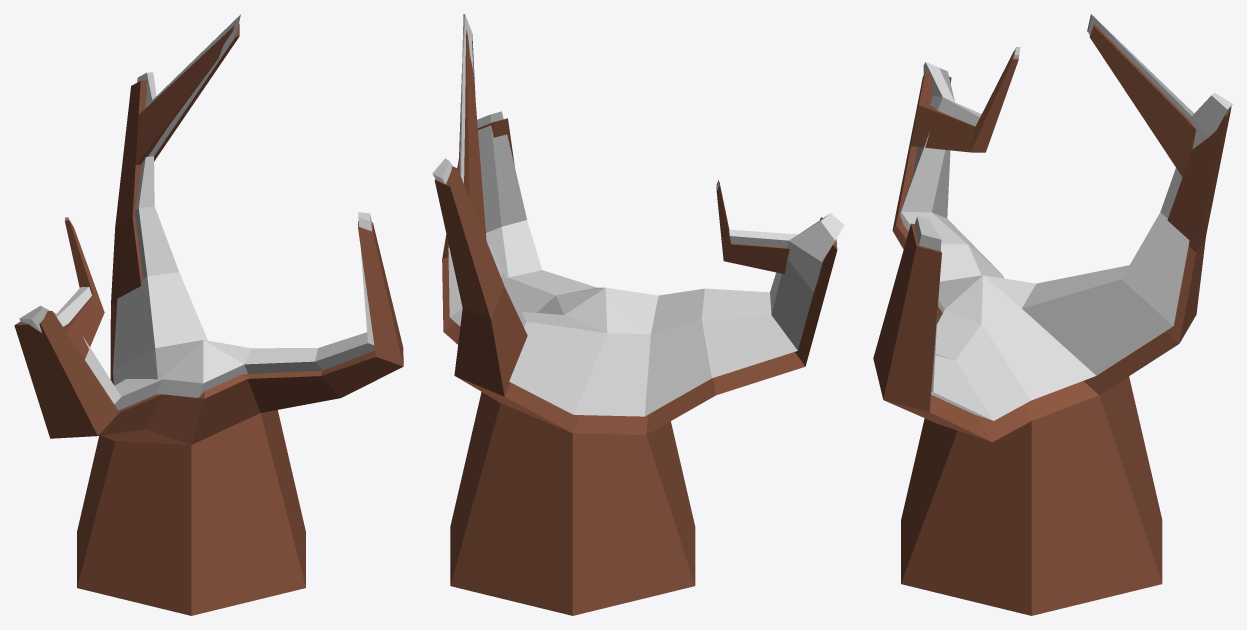
The model's file is bush_2_winter_mat.fbx.
3 renders of one model, left to right at view 1: azimuth 30°, elevation 25°; view 2: azimuth 150°, elevation 25°; view 3: azimuth 270°, elevation 25°, orthographic. The views are drawn at different scales.
Visible parts, largest first — view 1: bush_2_winter_mat; view 2: bush_2_winter_mat; view 3: bush_2_winter_mat.
Part boxes in pixels (<box>): bush_2_winter_mat: <box>14,14,403,615</box>; bush_2_winter_mat: <box>432,14,844,615</box>; bush_2_winter_mat: <box>873,14,1232,615</box>.
Size of the model in its own units: 0.9409 by 1.2 by 0.6764.
